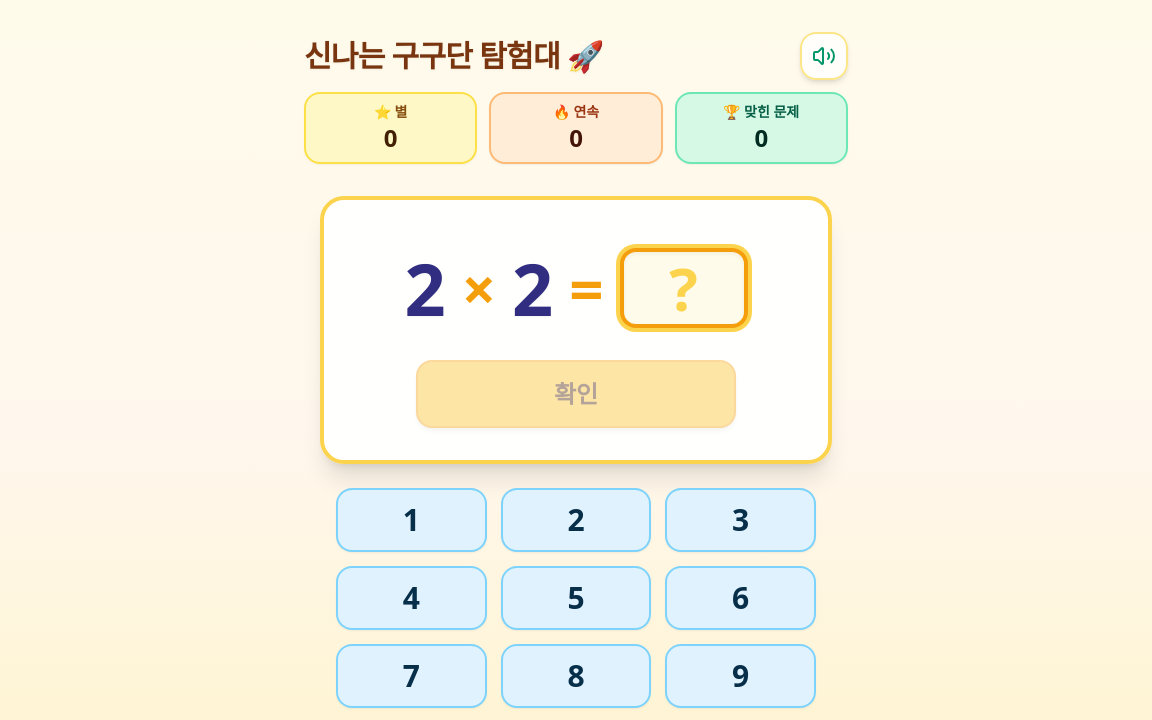
App Integration › handles confetti error gracefully without failing submission
Type "4" into the field named "정답 입력" at coordinates (684, 288), box 620,248 -> 748,328
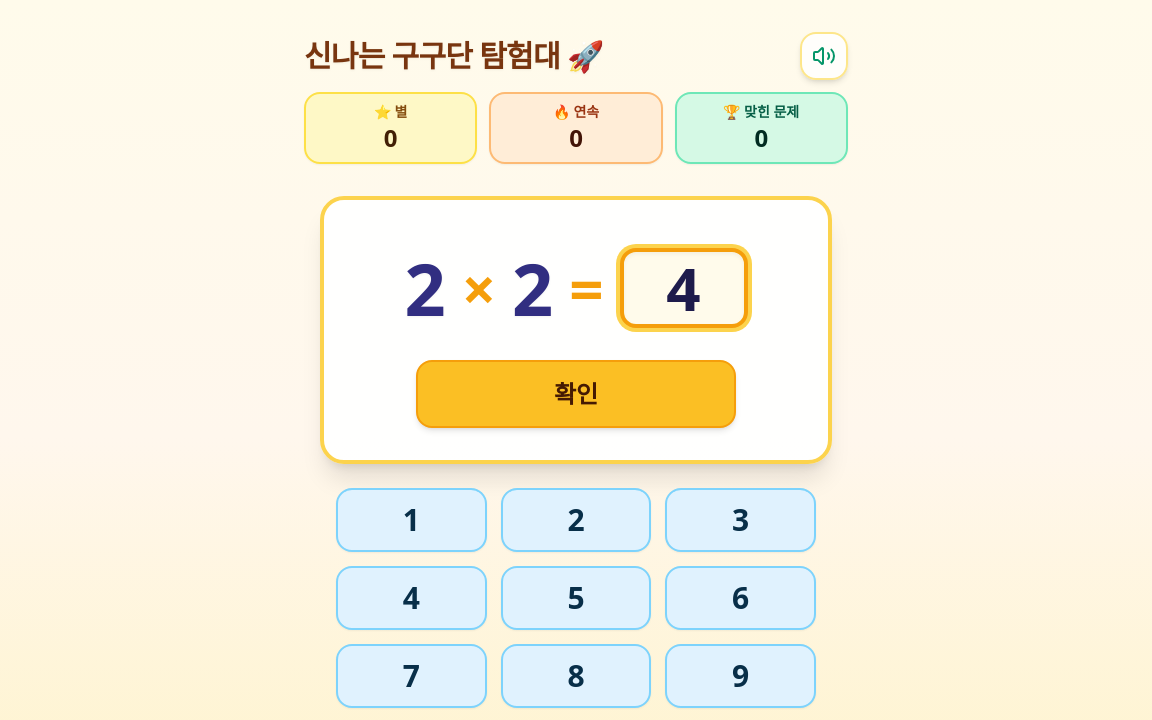
Press Enter in the field named "정답 입력", box 620,248 -> 748,328
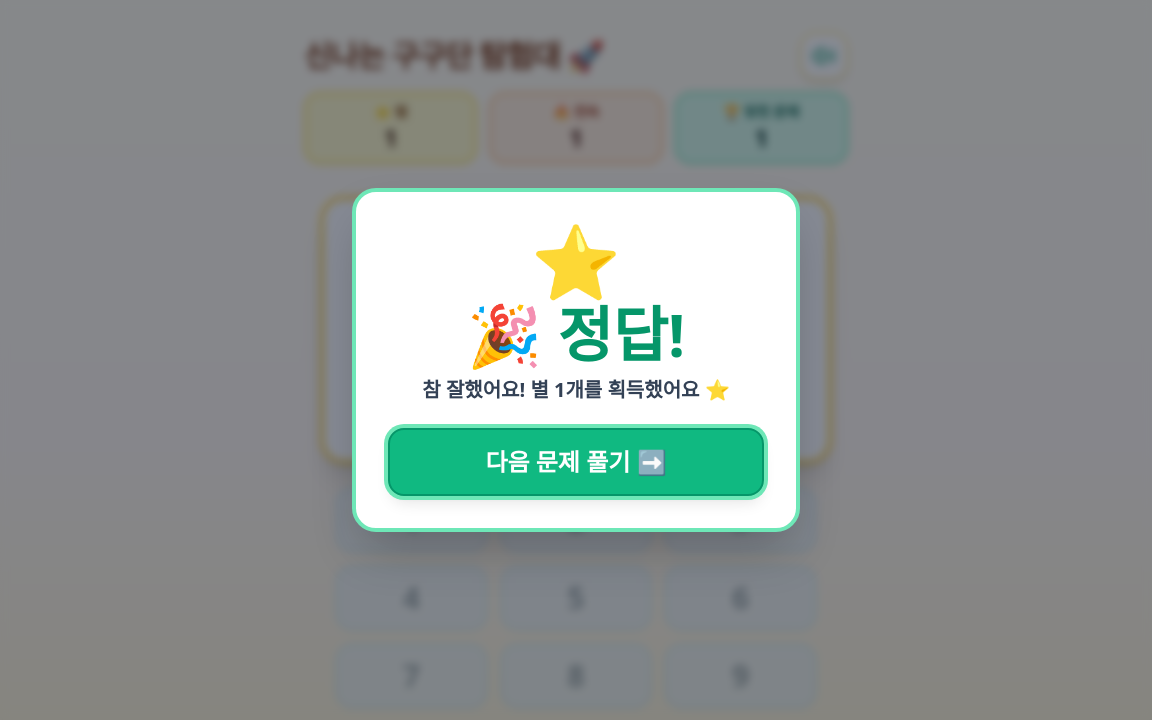
Check: the dialog is shown
Check: the heading "🎉 정답!" is shown, box 467,293 -> 685,375
